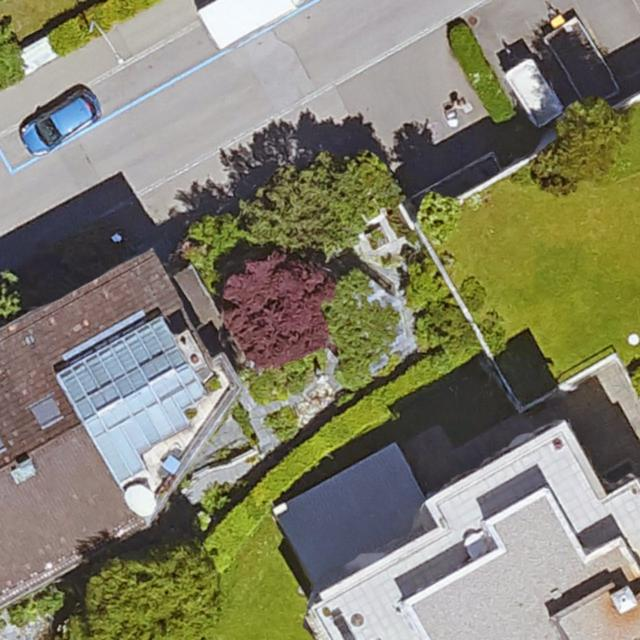tree: (245, 148, 399, 256), (71, 545, 223, 640), (221, 252, 330, 367), (532, 99, 628, 190), (181, 214, 247, 285), (0, 20, 27, 92)
